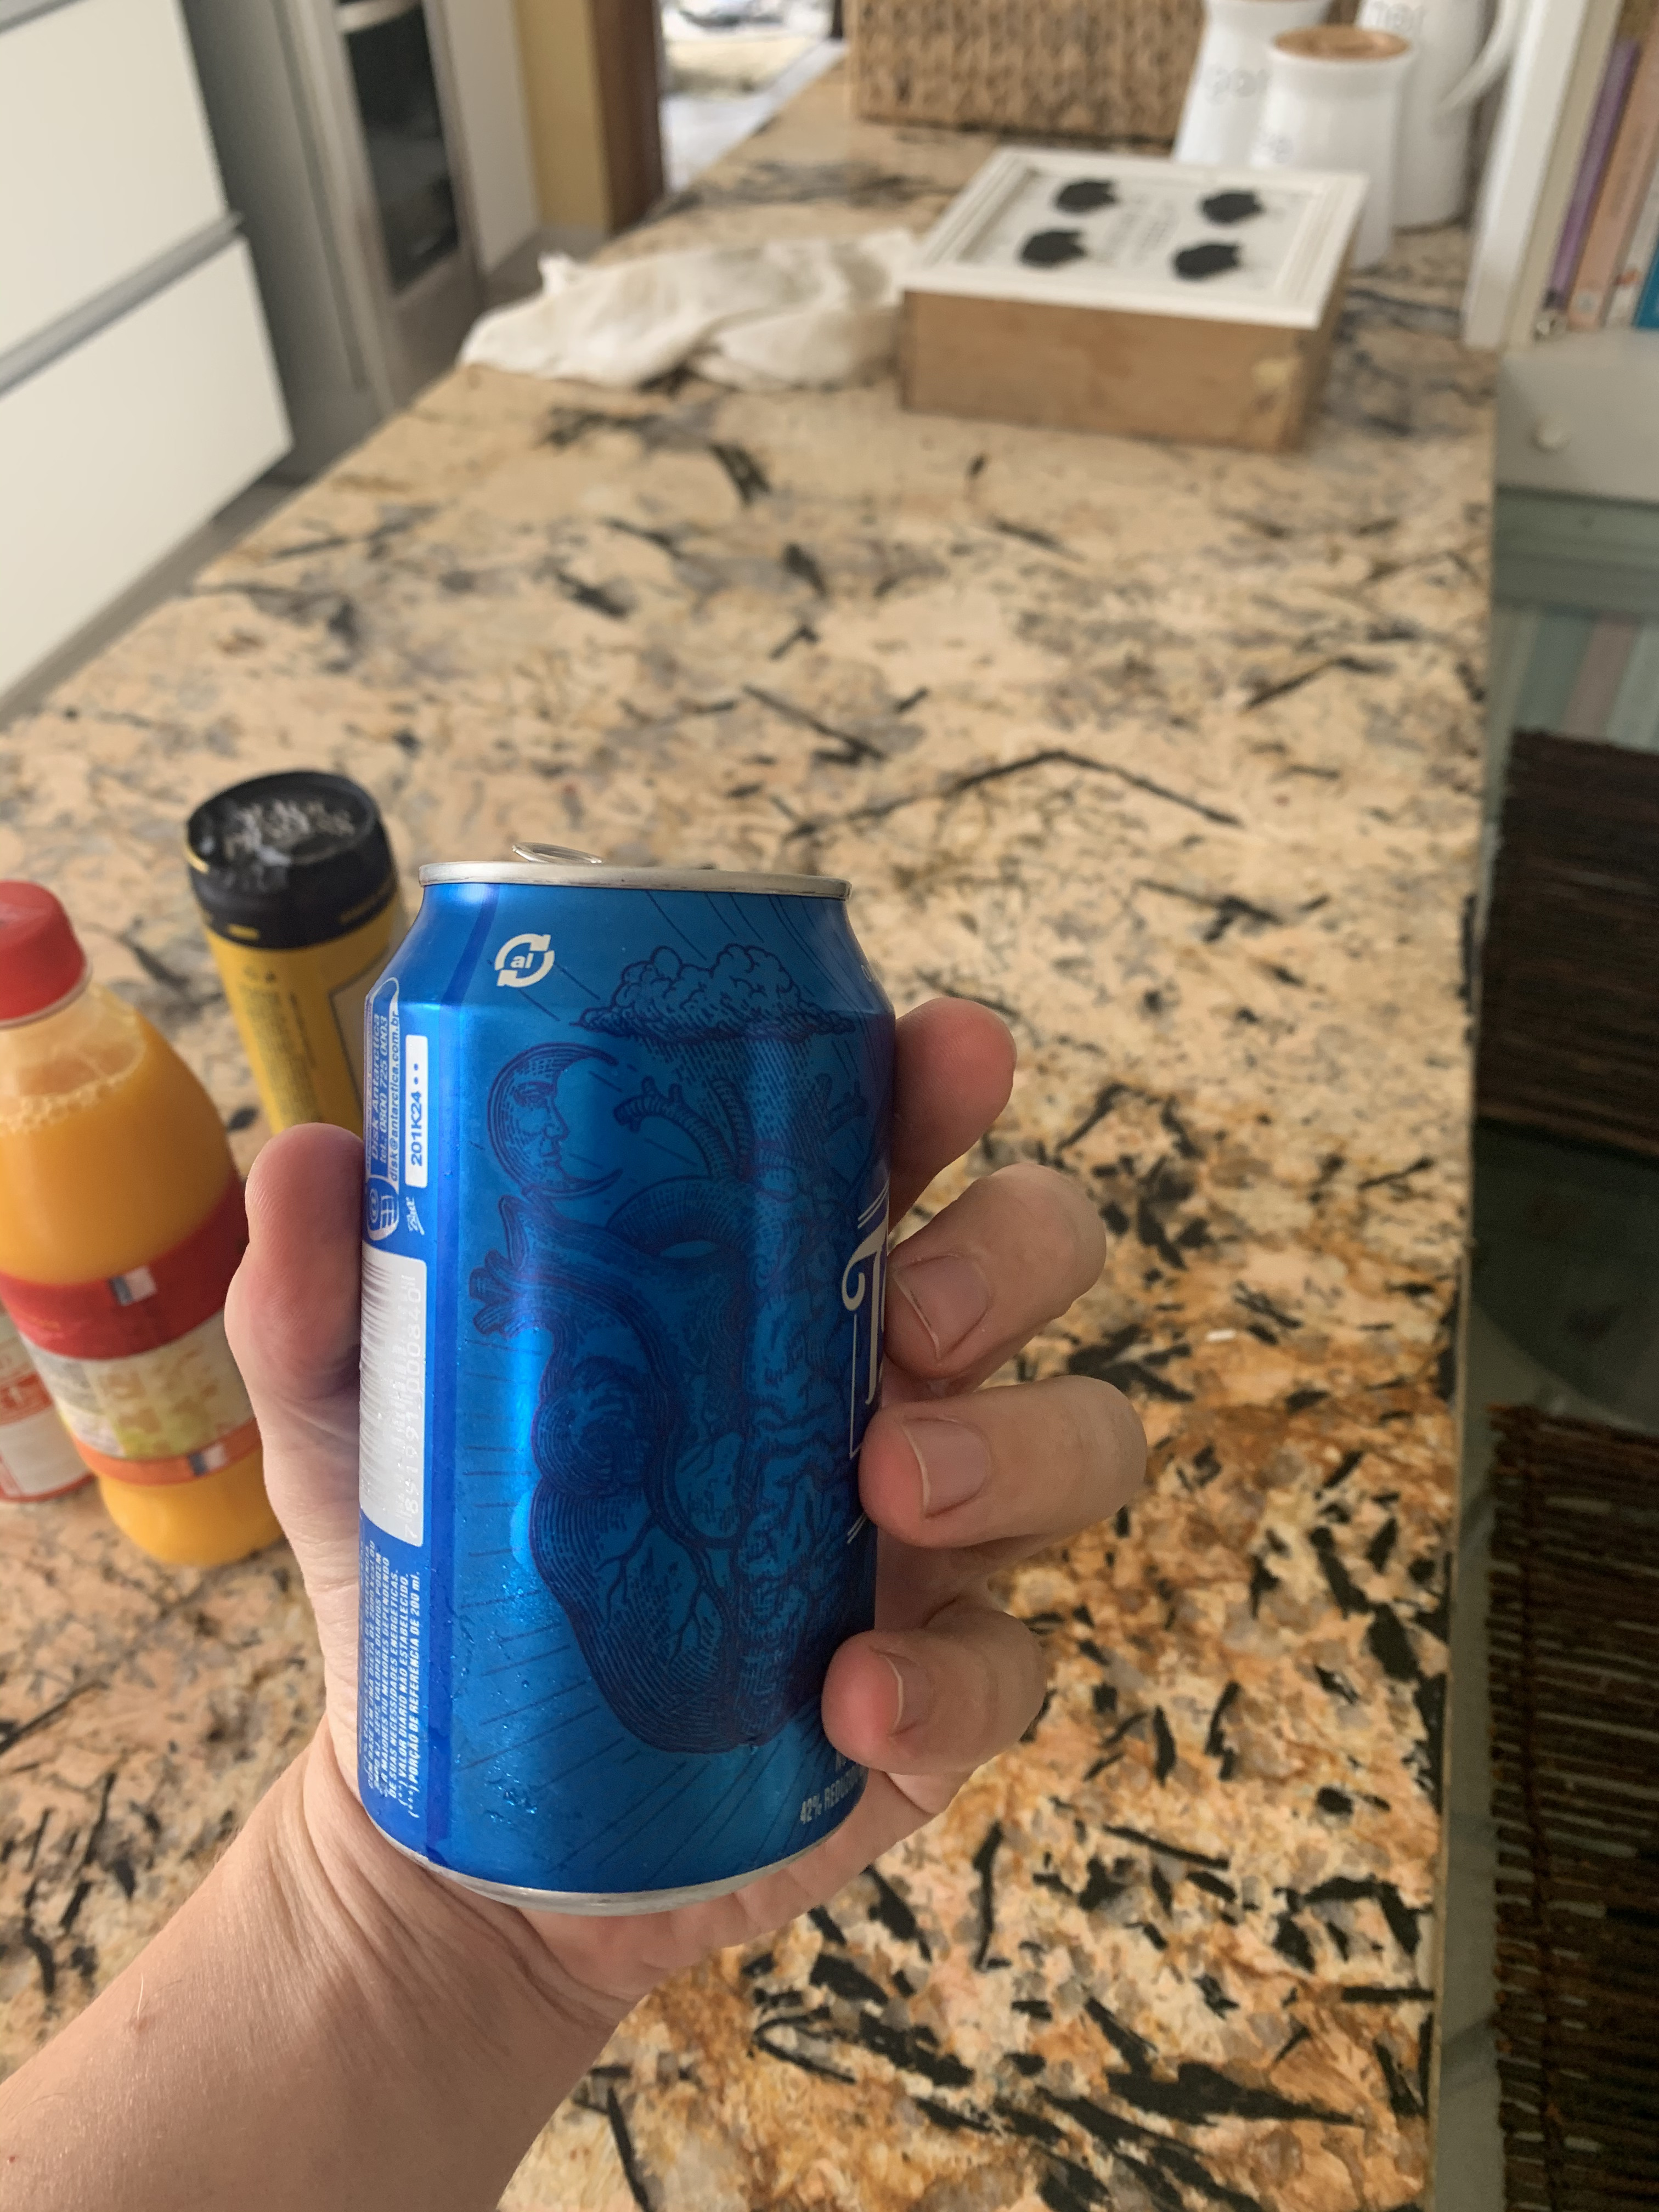tonica: (335, 838, 972, 1909)
